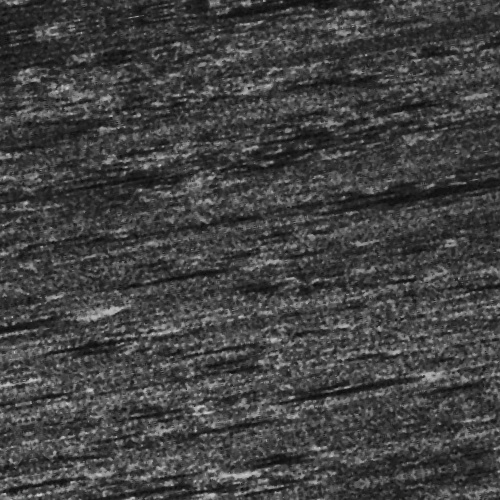object: (119, 461, 264, 474), (0, 466, 43, 483), (387, 8, 440, 19), (52, 278, 115, 287), (371, 397, 424, 406), (214, 256, 267, 265), (112, 311, 185, 316), (0, 106, 49, 113)
shadow: (0, 461, 191, 474), (362, 214, 500, 227), (287, 8, 413, 19), (263, 397, 397, 406), (112, 256, 240, 265), (0, 278, 83, 287), (44, 311, 148, 316)
